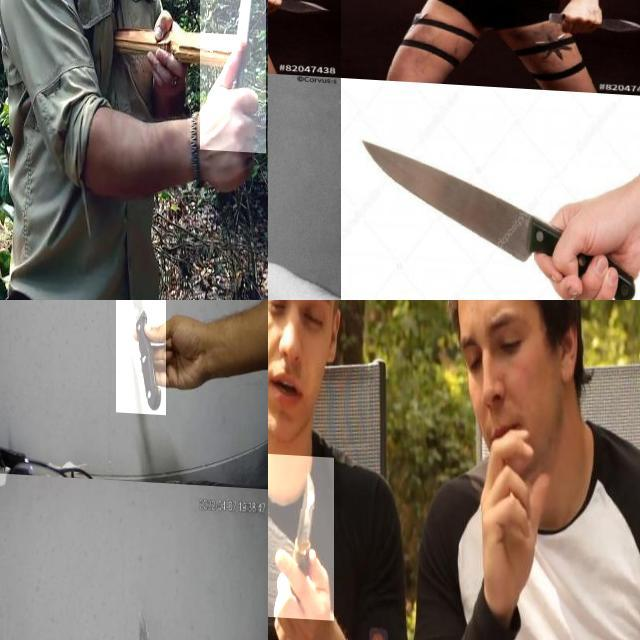-: (356, 124, 609, 300), (268, 82, 323, 290), (268, 451, 333, 618), (200, 0, 265, 147), (116, 300, 165, 412), (133, 601, 160, 640), (413, 0, 449, 26), (268, 0, 286, 26)
